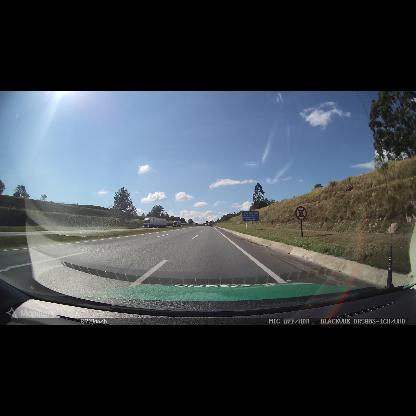R-24a: (295, 206, 307, 220)
